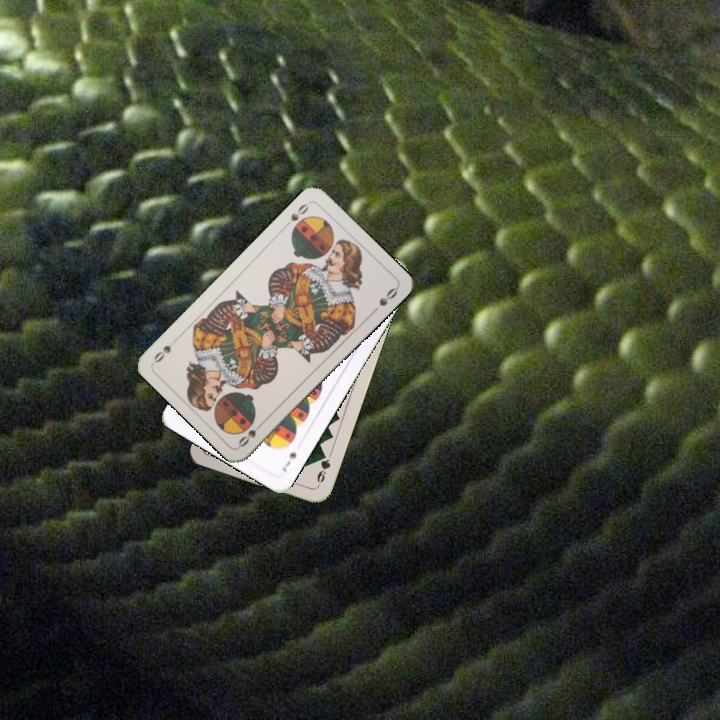G9: (313, 448, 333, 486)
S7: (278, 448, 299, 474)
SO: (234, 417, 267, 450), (280, 198, 313, 230)
